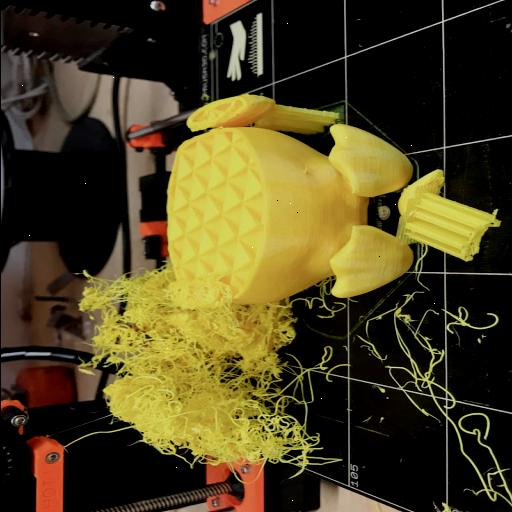spaghetti: (78, 260, 328, 486), (367, 296, 512, 490)
